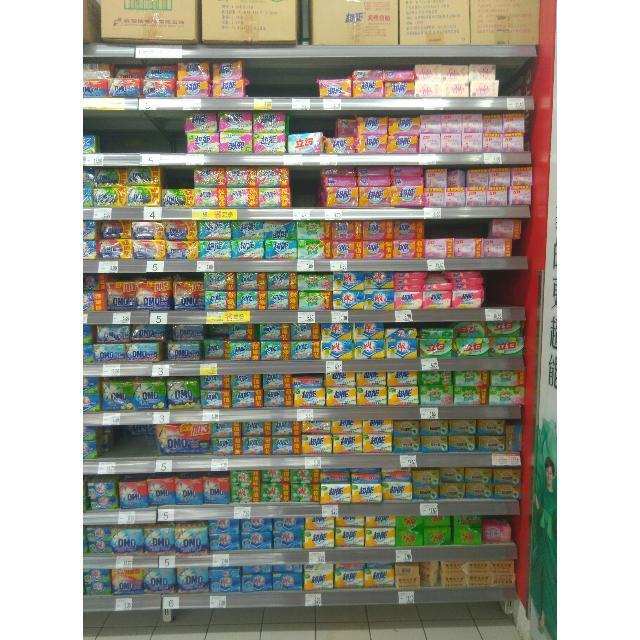empty: (100, 111, 184, 153), (244, 59, 320, 97), (485, 270, 525, 306), (500, 58, 528, 96), (292, 166, 316, 208)
front: (118, 436, 156, 458)
